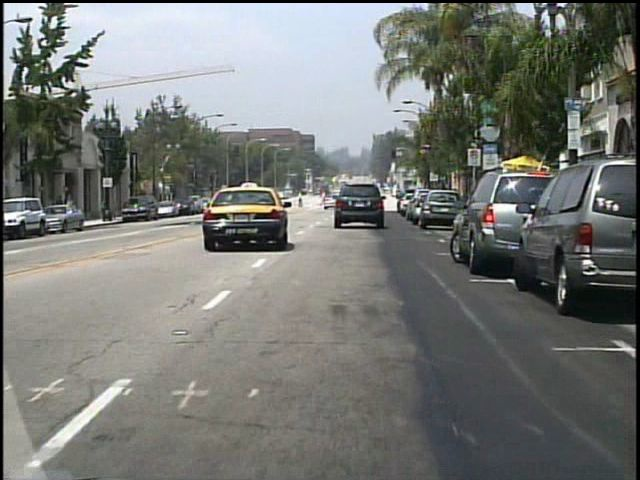person: (54, 191, 69, 224), (67, 192, 79, 222), (320, 189, 328, 208), (297, 190, 305, 208)
